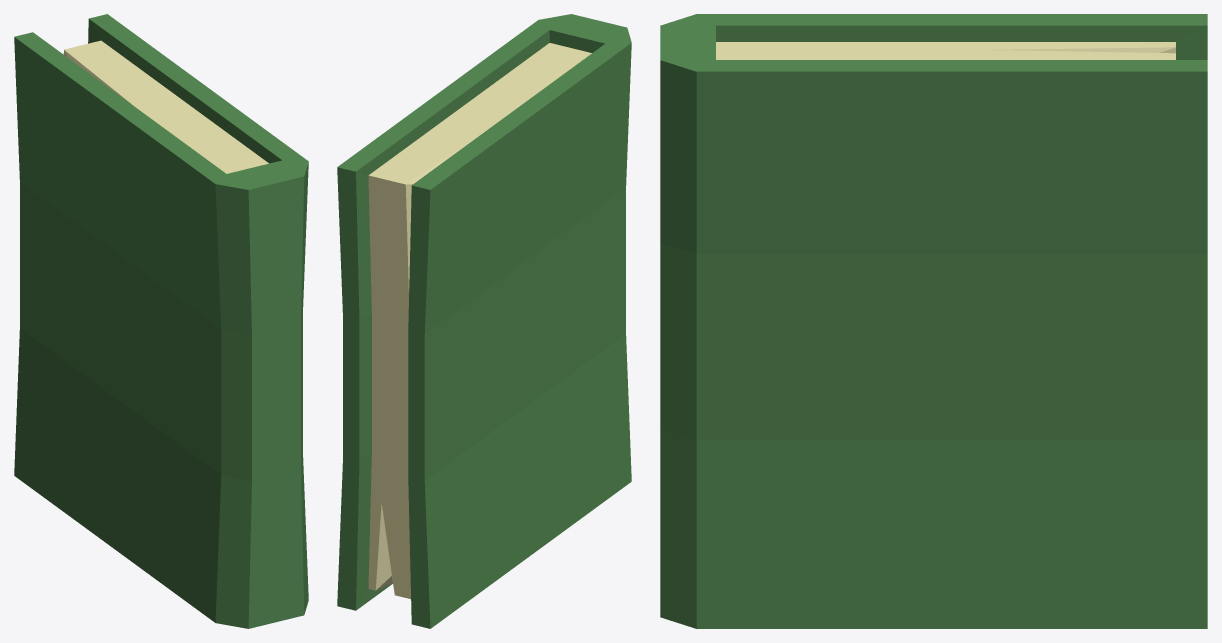
File: book_2.fbx
3 renders of one model, left to right at view 1: azimuth 30°, elevation 25°; view 2: azimuth 150°, elevation 25°; view 3: azimuth 270°, elevation 25°, orthographic. The views are drawn at different scales.
Visible parts, largest first — view 1: book_2; view 2: book_2; view 3: book_2.
Boxes of the visible parts, x1,y1,x2,y2 form: book_2: (14,14,308,628); book_2: (337,14,631,628); book_2: (660,14,1207,628).
Bounding box in the file's own units: 9.69 × 43.55 × 38.77.
